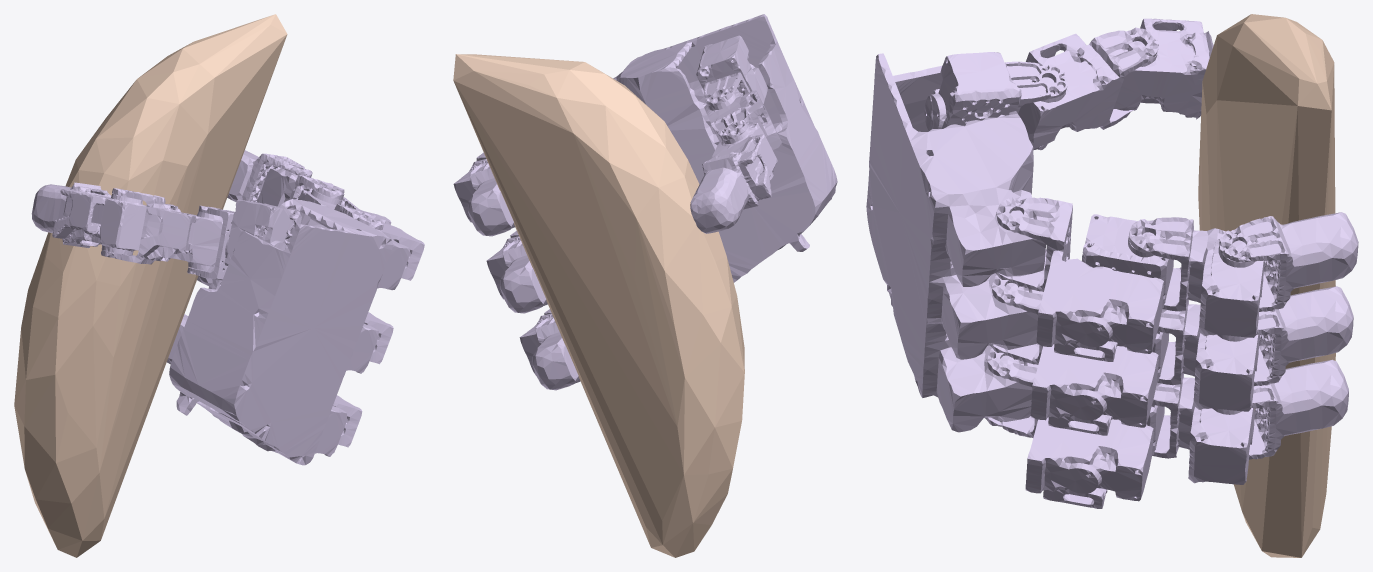
Rendered from 66a5c38b10263f-closed.glb.
3 renders of one model, left to right at view 1: azimuth 30°, elevation 25°; view 2: azimuth 150°, elevation 25°; view 3: azimuth 270°, elevation 25°, orthographic. The views are drawn at different scales.
Parts seen in each view (by area): view 1: world, LEAP_hand; view 2: world, LEAP_hand; view 3: LEAP_hand, world.
Boxes of the visible parts, box(x1,y1,x2,y2) form: world: box(14, 14, 287, 557); LEAP_hand: box(31, 150, 424, 465); world: box(453, 54, 744, 557); LEAP_hand: box(453, 14, 837, 390); LEAP_hand: box(866, 18, 1358, 508); world: box(1198, 14, 1335, 557).
Bounding box in the file's own units: 0.1856 × 0.266 × 0.1947.
